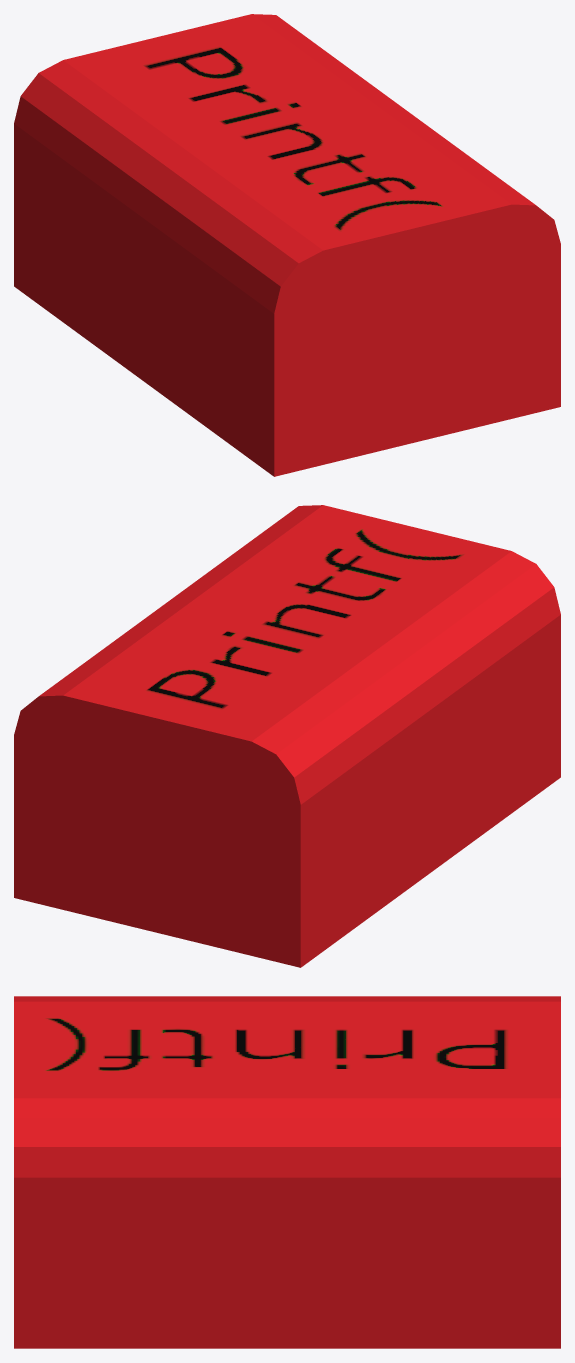
Rendered from printf(.fbx.
3 views of the same model, one above another, from view 1: azimuth 30°, elevation 25°; view 2: azimuth 150°, elevation 25°; view 3: azimuth 270°, elevation 25° (orthographic). The views are drawn at different scales.
Visible parts, largest first — view 1: 큐브; view 2: 큐브; view 3: 큐브.
Part boxes in pixels (x1,y1,x2,y2): 큐브: (14,14,560,476); 큐브: (14,505,560,967); 큐브: (14,996,560,1348).
Bounding box in the file's own units: 70 × 50 × 110.
Materials: 1 (1 with a texture image).
